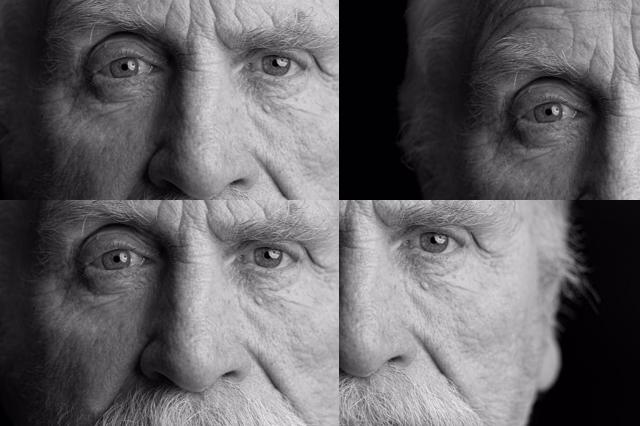bunny_line: (136, 148, 172, 186)
chin: (84, 286, 100, 300)
crows_feet: (250, 100, 306, 152), (521, 17, 537, 41), (67, 218, 85, 232), (402, 20, 414, 36), (148, 226, 160, 240)
forehead: (30, 0, 98, 20), (140, 200, 157, 209), (90, 200, 103, 204)
frown_line: (29, 51, 59, 107), (82, 37, 110, 77), (363, 200, 389, 225), (339, 200, 356, 220), (110, 207, 122, 222), (450, 0, 460, 13), (123, 206, 131, 218), (464, 12, 476, 18)
gummy_smile: (416, 342, 448, 376), (422, 62, 436, 84), (132, 255, 144, 275), (88, 248, 104, 262)
masseter: (522, 48, 536, 102), (502, 97, 524, 129)
sad_smile: (82, 268, 88, 280)
